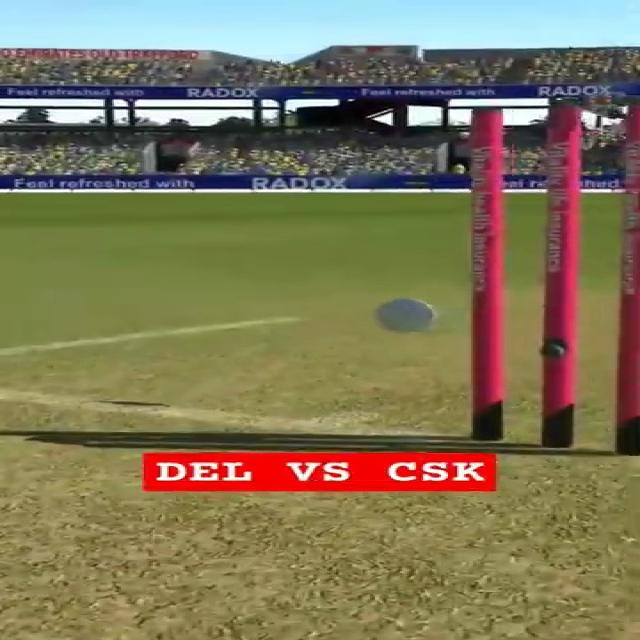ball: (373, 297, 436, 332)
